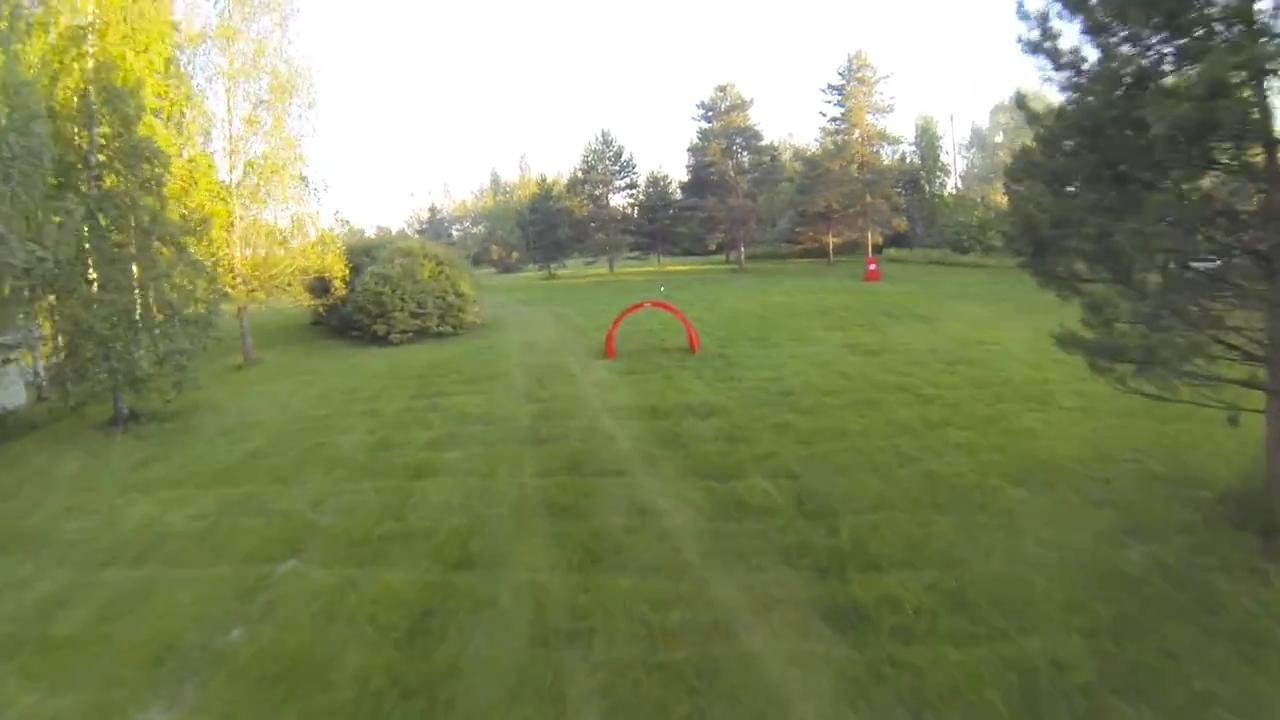gate: (600, 298, 703, 358)
